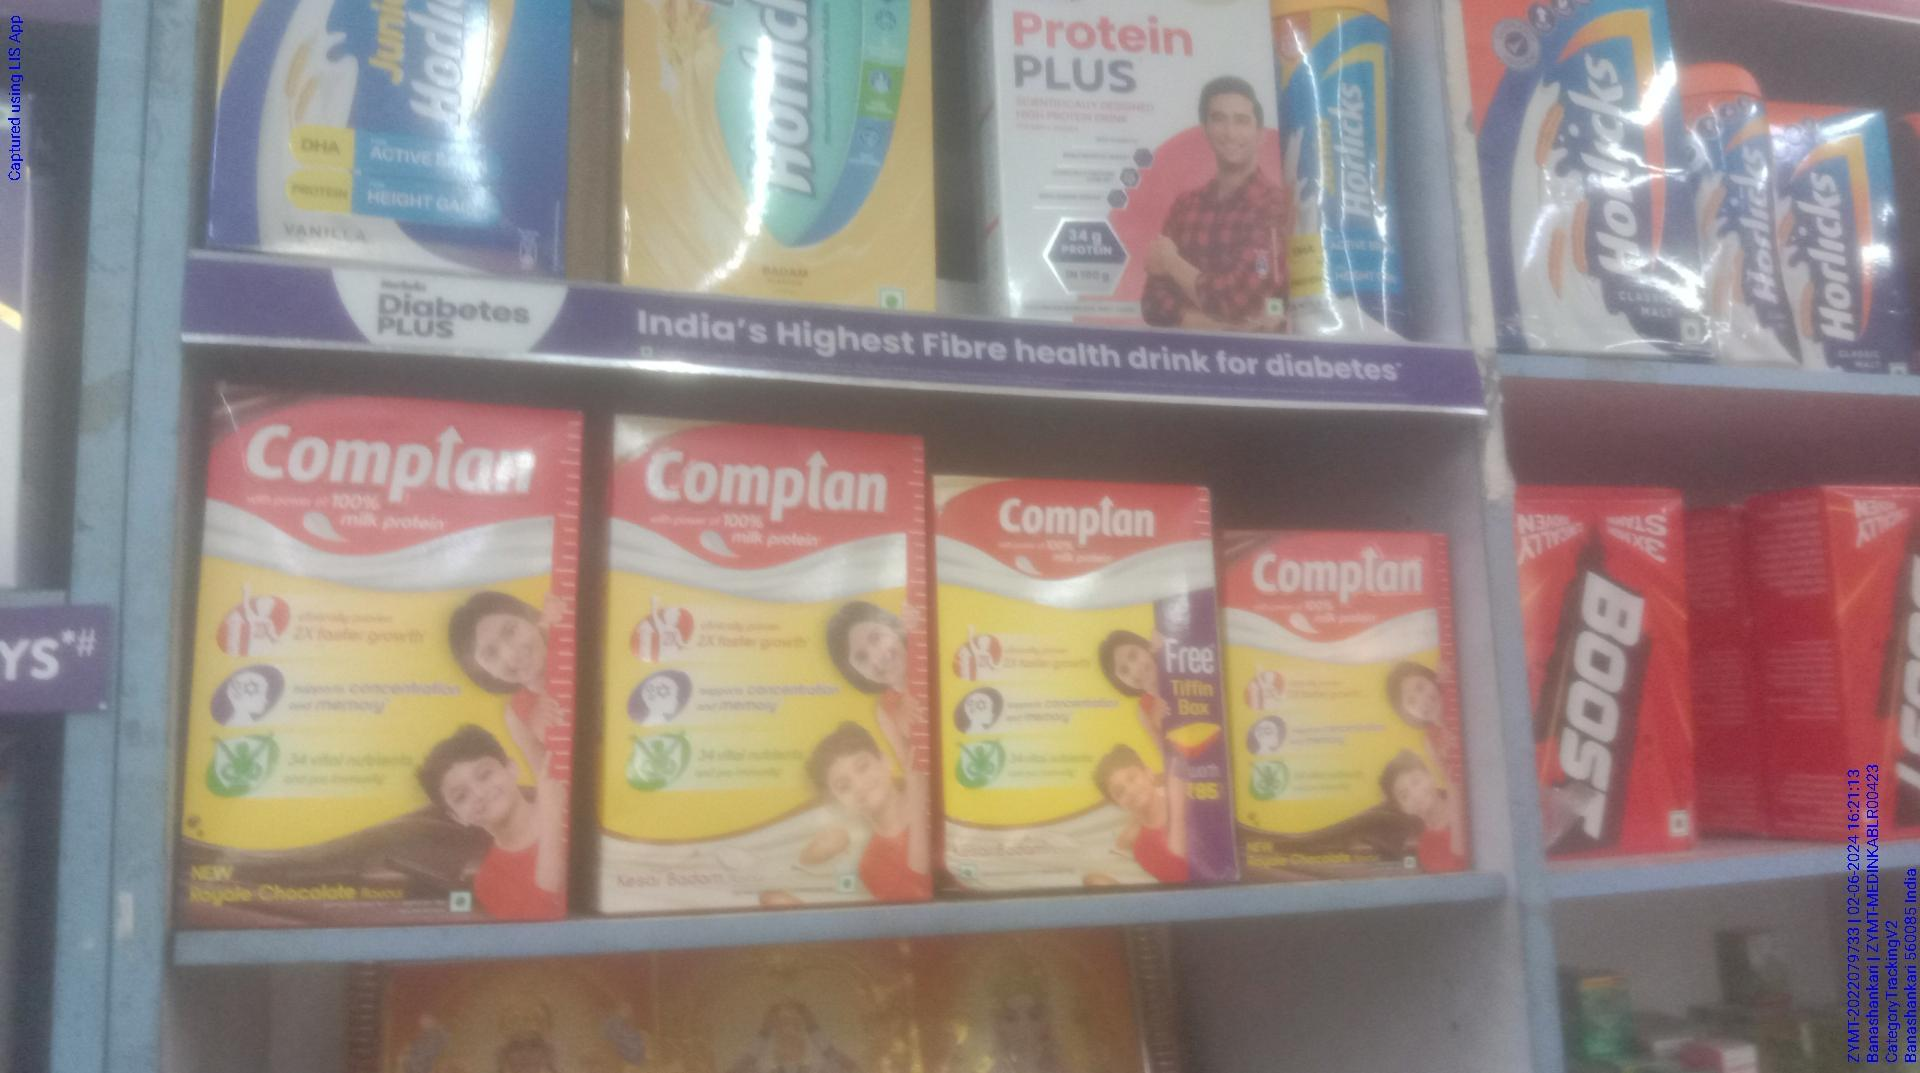HORLICKS_JUNIOR_VANILLA_500_GM_JAR: (1274, 0, 1399, 345)
